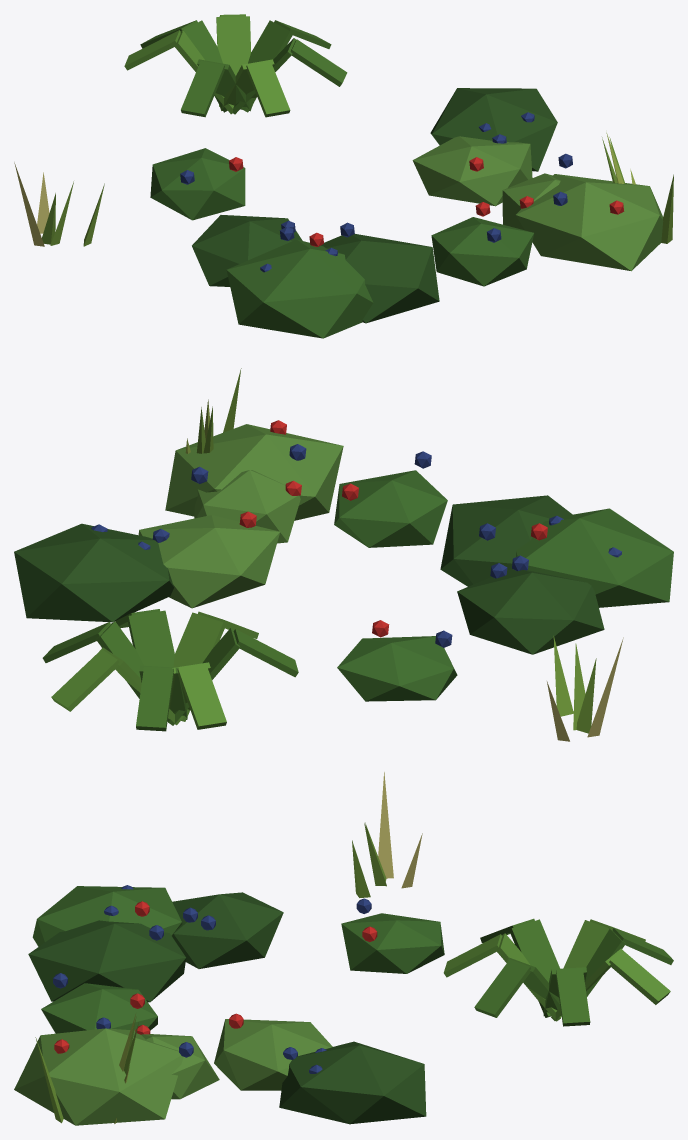
File: forest_patch_scrub.glb
The picture shows the model from 3 angles, top to bottom: view 1: azimuth 30°, elevation 25°; view 2: azimuth 150°, elevation 25°; view 3: azimuth 270°, elevation 25°; orthographic projection. The views are drawn at different scales.
Parts seen in each view (by area): view 1: forest_patch_scrub; view 2: forest_patch_scrub; view 3: forest_patch_scrub.
Boxes of the visible parts, box(x1,y1,x2,y2) form: forest_patch_scrub: box(14, 14, 673, 338); forest_patch_scrub: box(14, 368, 673, 741); forest_patch_scrub: box(14, 772, 673, 1125).
Bounding box in the file's own units: 3.28 × 0.5481 × 3.41.
